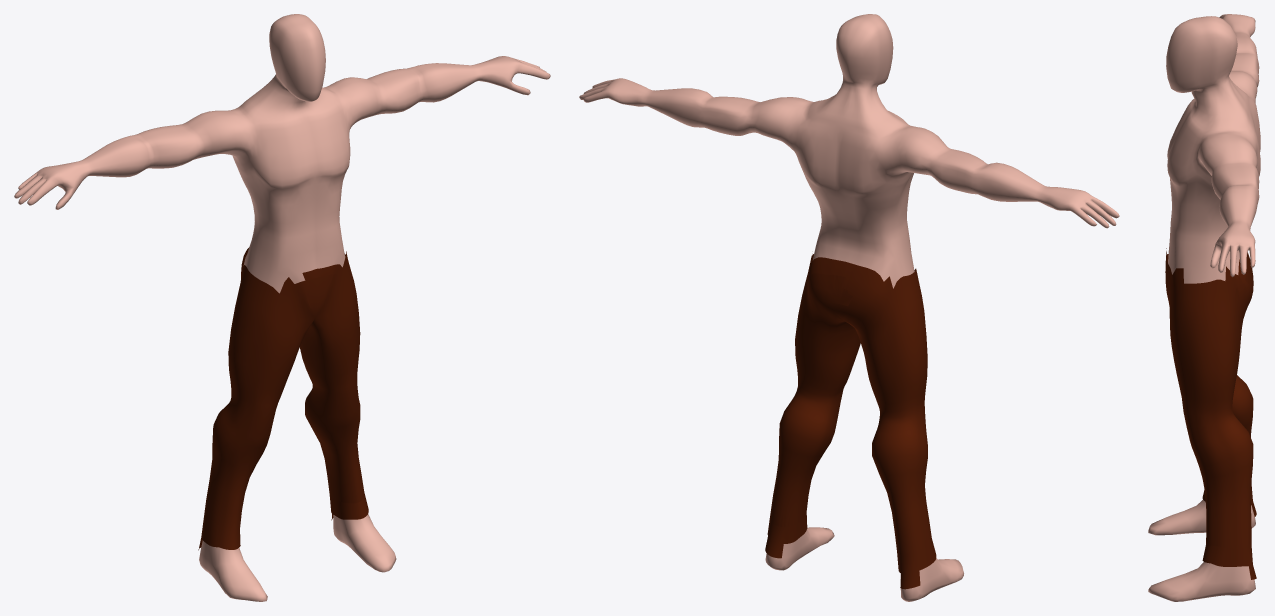
The model's file is modelwithClothes.fbx.
3 renders of one model, left to right at view 1: azimuth 30°, elevation 25°; view 2: azimuth 150°, elevation 25°; view 3: azimuth 270°, elevation 25°, orthographic.
Parts seen in each view (by area): view 1: Cube, Pants; view 2: Cube, Pants; view 3: Cube, Pants.
Boxes of the visible parts, <box> form: Cube: <box>14,14,550,601</box>; Pants: <box>198,247,368,550</box>; Cube: <box>579,14,1119,601</box>; Pants: <box>765,254,936,589</box>; Cube: <box>1148,14,1260,601</box>; Pants: <box>1165,248,1256,579</box>.
Bounding box in the file's own units: 472 × 468 × 87.66.
